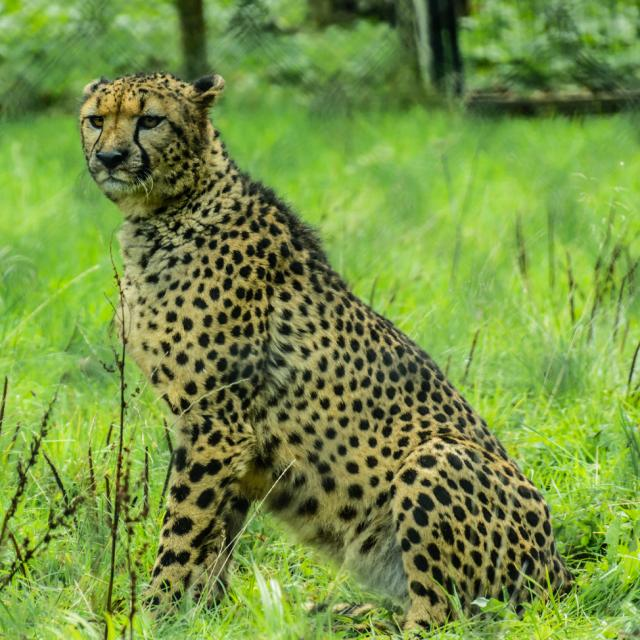Cheetah: (75, 70, 576, 640)
